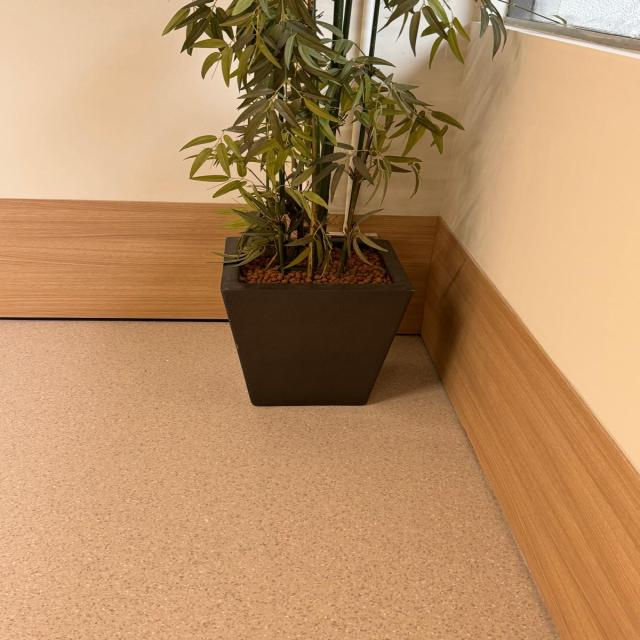Pot: (220, 237, 414, 406)
